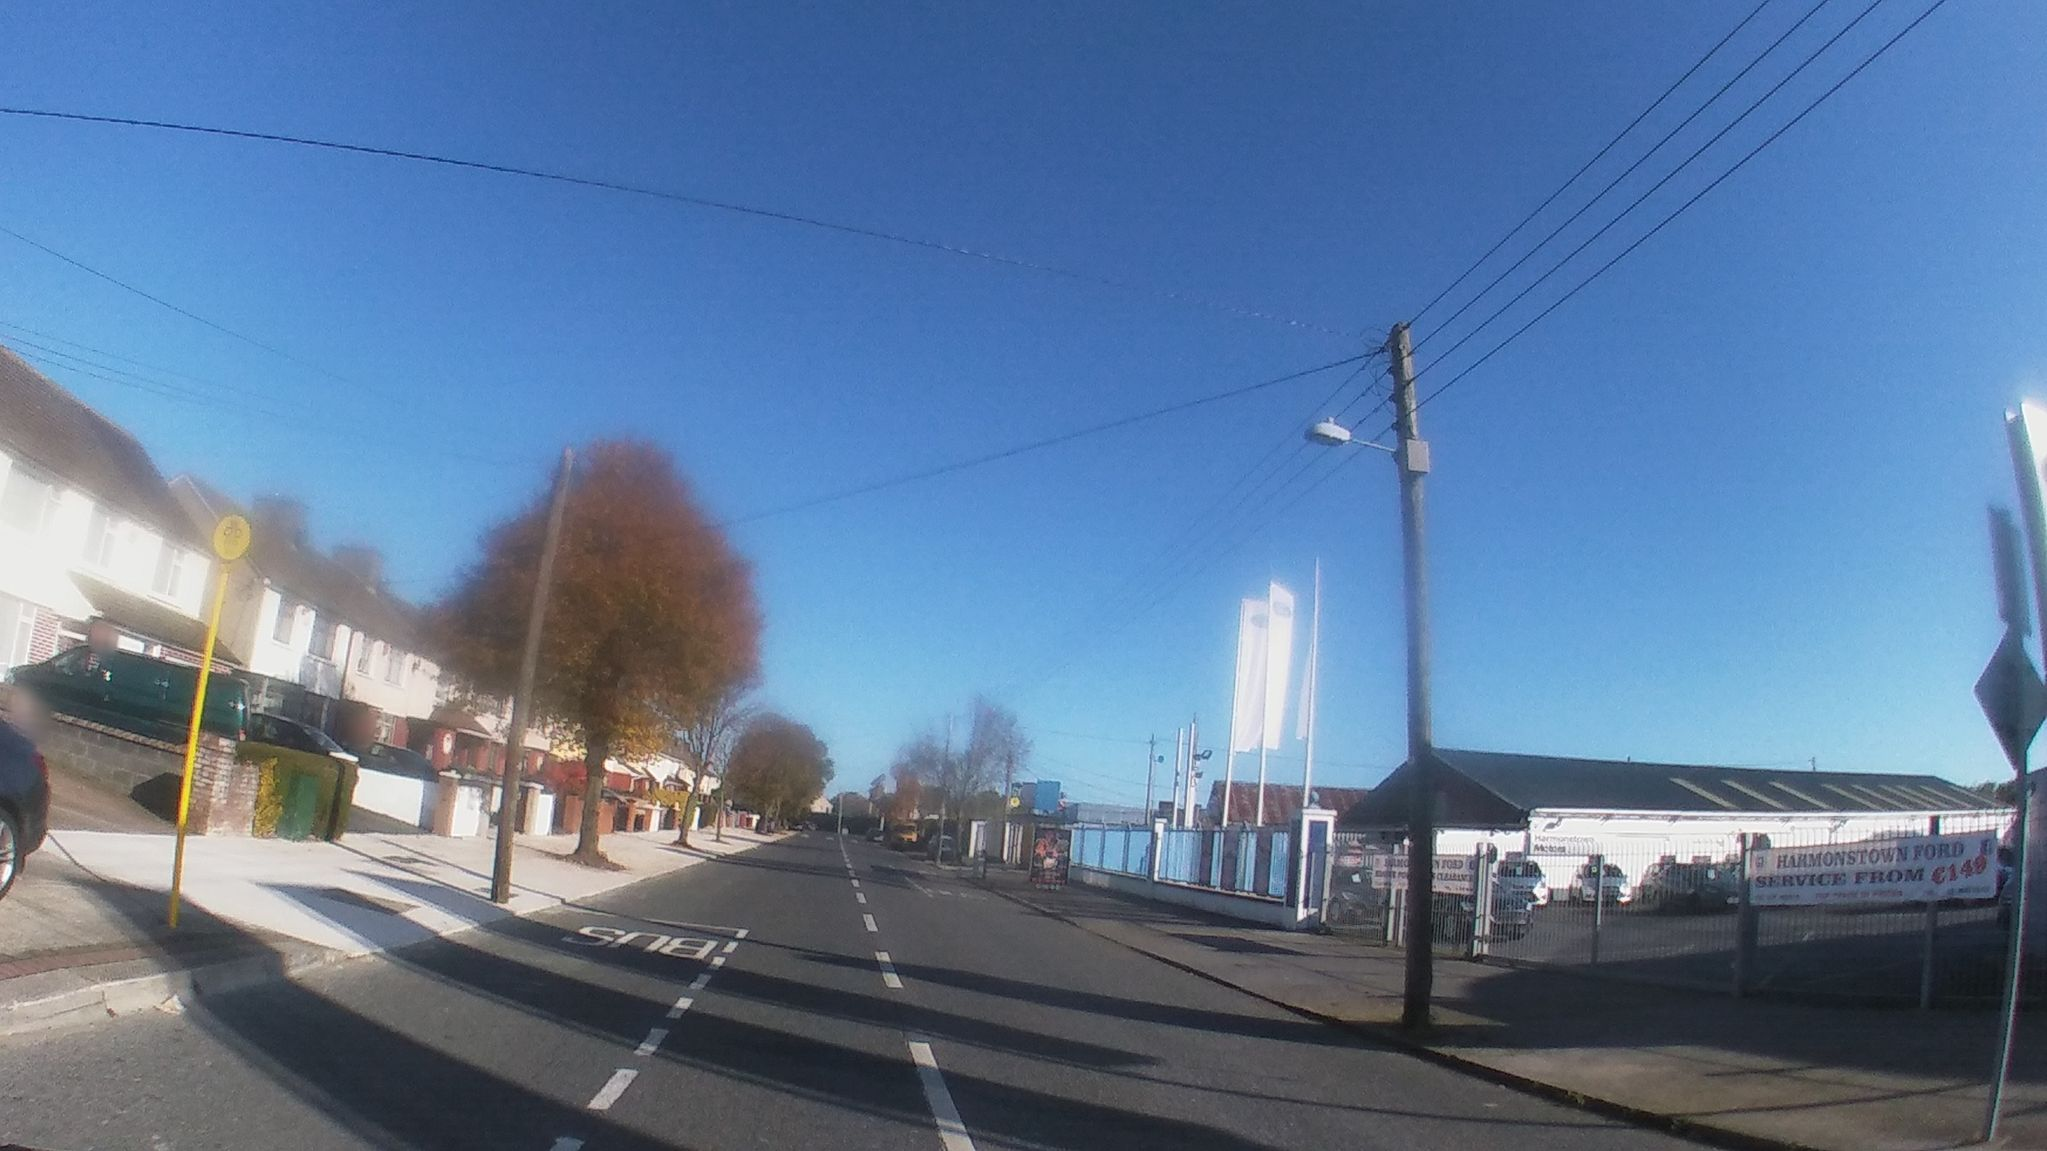vinyl banner: (1725, 819, 2025, 915), (1355, 831, 1486, 906)
